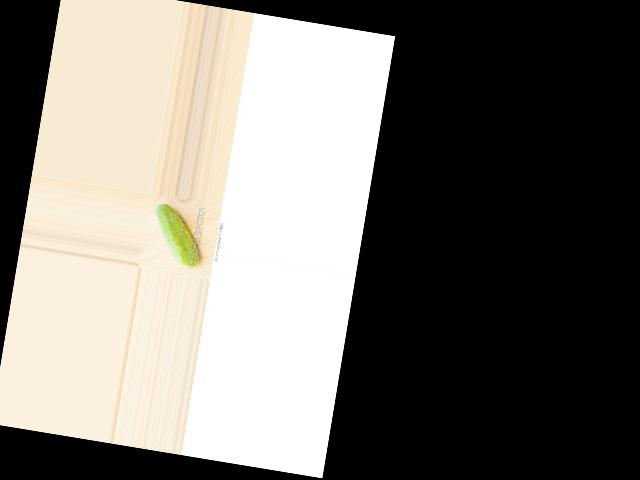cucumber: (146, 202, 207, 270)
